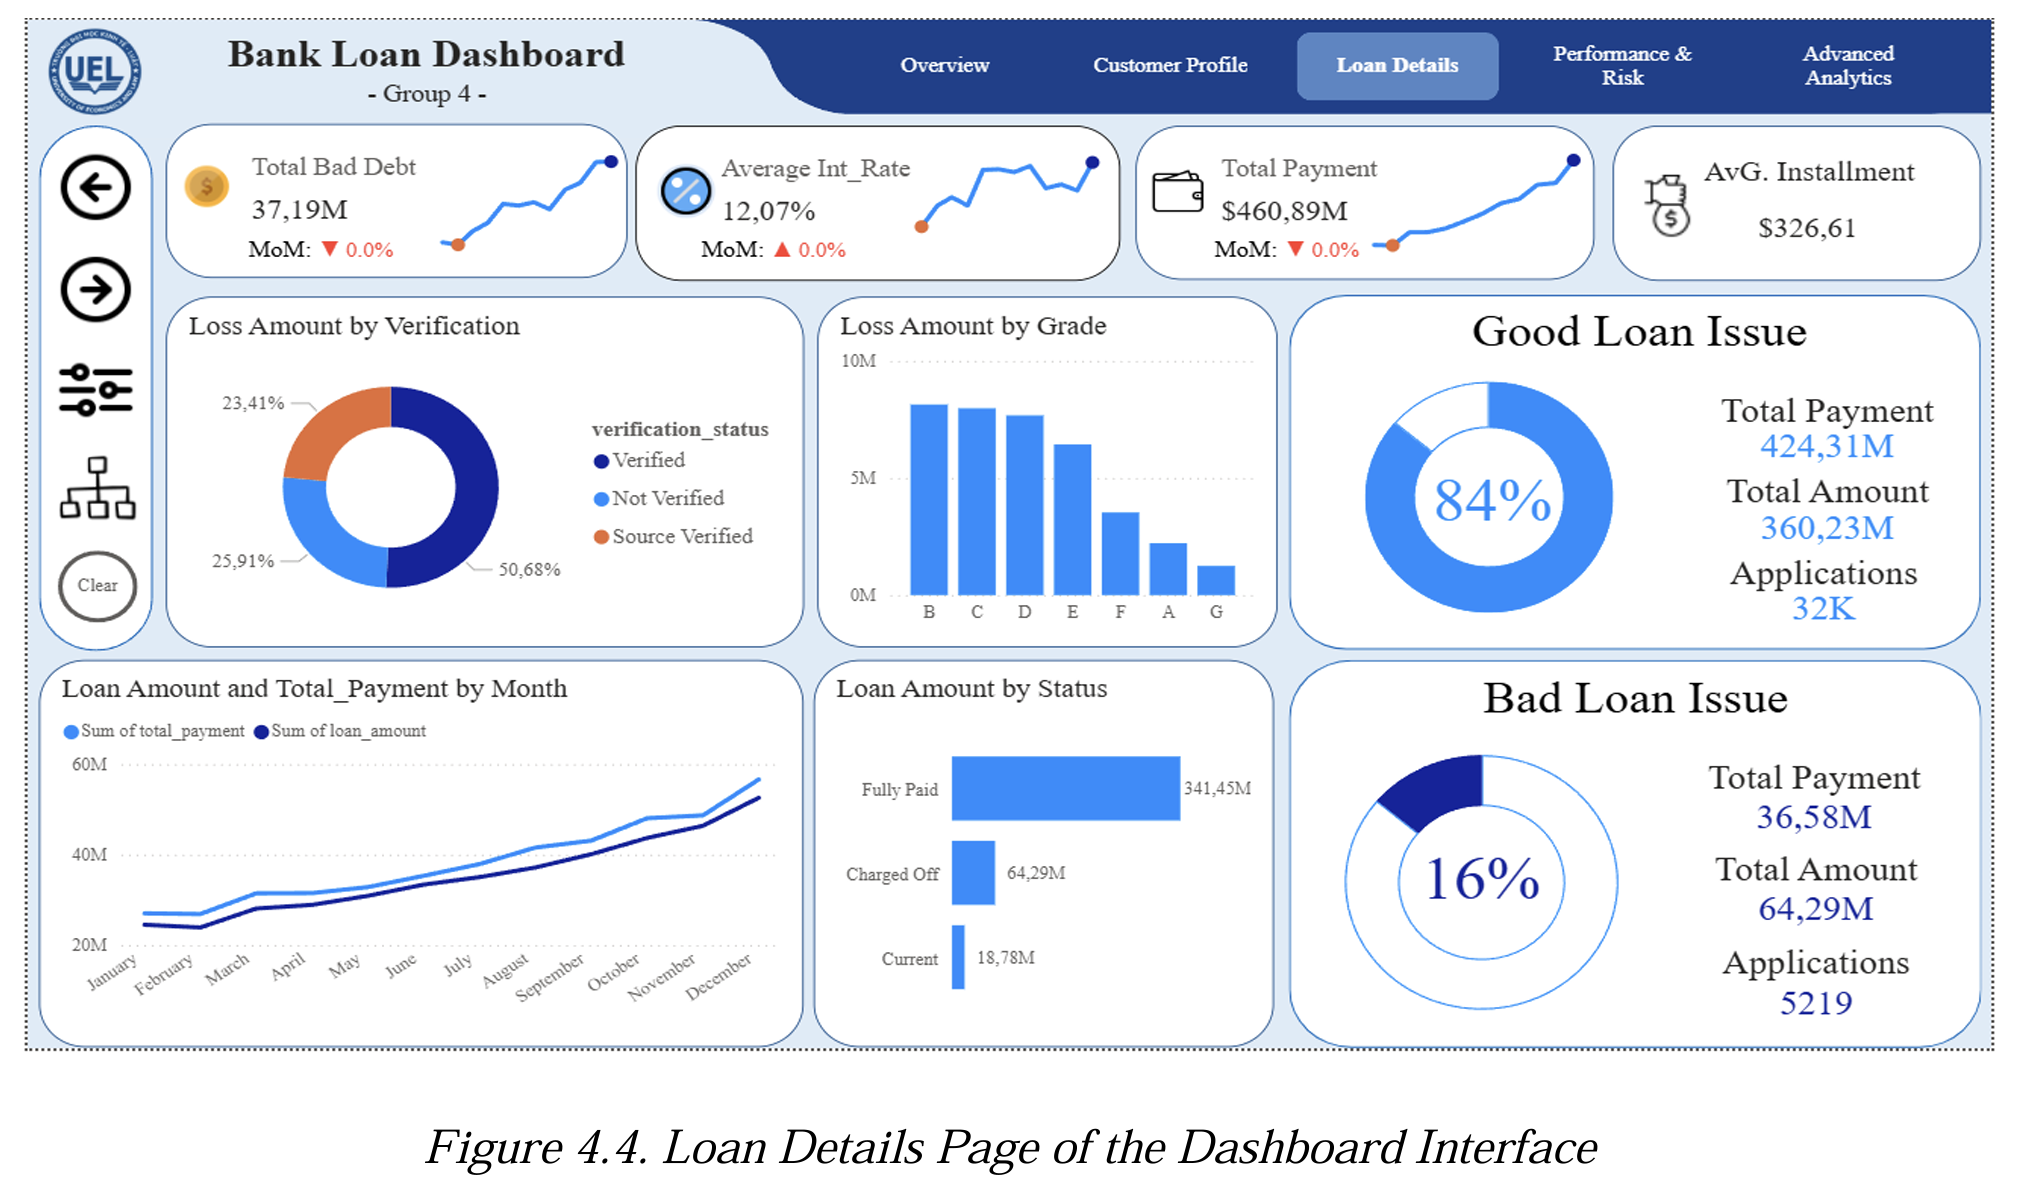

Layout of this report page (visuals, bound fields, positions):
{"tool":"powerbi","page":{"name":"Loan Details","canvas":[1280,720],"ordinal":3},"visuals":[{"type":"shape","box":[0,0,1280,720],"z":0},{"type":"shape","box":[482,0,792,66],"z":0,"group":"g6"},{"type":"pageNavigator","box":[532.5,8.8,132.6,48.8],"z":0,"group":"g7"},{"type":"cardVisual","fields":{"Data":["Measure.Total Loan Amount"]},"box":[90,72.9,300.6,108.1],"z":0,"group":"g9"},{"type":"group","id":"g1","title":"Group 6","box":[396.5,73.9,315.7,108.6],"z":0,"group":"g8"},{"type":"group","id":"g2","title":"Group 3","box":[396.5,73.9,315.7,108.6],"z":0,"group":"g1"},{"type":"cardVisual","fields":{"Data":["Measure.Average Interest Rate"]},"box":[396.5,73.9,315.7,108.6],"z":0,"group":"g2"},{"type":"group","id":"g3","title":"Group 10","box":[721.9,74.3,300.5,107.8],"z":0,"group":"g10"},{"type":"group","id":"g4","title":"Group 4","box":[721.9,74.3,300.5,107.8],"z":0,"group":"g3"},{"type":"group","id":"g5","title":"Group 3","box":[721.9,74.3,300.5,107.8],"z":0,"group":"g4"},{"type":"cardVisual","fields":{"Data":["Measure.Total Payment"]},"box":[721.9,74.3,299.1,107.8],"z":0,"group":"g5"},{"type":"shape","box":[822.2,192.9,451,248.5],"z":0,"group":"g11"},{"type":"shape","box":[822.4,447.9,451.5,271.6],"z":0,"group":"g12"},{"type":"shape","box":[381.5,0,898.8,42],"z":1000},{"type":"shape","box":[532,0,748.6,65.7],"z":1000,"group":"g6"},{"type":"pageNavigator","box":[827.1,8.8,132.6,48.8],"z":1000,"group":"g7"},{"type":"lineChart","fields":{"Y":["Measure.Total Loan Amount","Measure.MaxSalesbyMonth","Measure.Min Total Loan Amount"],"Category":["Dim_Time.Date.Variation.Date Hierarchy.Year","Dim_Time.Date.Variation.Date Hierarchy.Month"]},"box":[255,77.9,140,100],"z":1000,"group":"g9"},{"type":"lineChart","fields":{"Category":["Dim_Time.Date.Variation.Date Hierarchy.Year","Dim_Time.Date.Variation.Date Hierarchy.Month"],"Y":["Measure.Total Payment","Measure.Max Total Payment","Measure.Min Total Payment"]},"box":[862.4,78.5,160,100.2],"z":1000,"group":"g5"},{"type":"lineChart","fields":{"Y":["Measure.Average Interest Rate","Measure.Max Average Int Rate","Measure.Min Average Int Rate"],"Category":["Dim_Time.Date.Variation.Date Hierarchy.Year","Dim_Time.Date.Variation.Date Hierarchy.Month"]},"box":[568.5,80,141.4,92.9],"z":1000,"group":"g2"},{"type":"image","box":[402.1,96.2,54.3,47.3],"z":1000,"group":"g1"},{"type":"image","box":[722.4,98,55.7,44.5],"z":1000,"group":"g3"},{"type":"textbox","box":[878.4,194,343.6,68.1],"z":1000,"group":"g11"},{"type":"textbox","box":[872.4,450.5,351,74.3],"z":1000,"group":"g12"},{"type":"pageNavigator","box":[974.4,8.8,132.6,48.8],"z":2000,"group":"g7"},{"type":"image","box":[97,92.4,39,47.3],"z":2000,"group":"g9"},{"type":"textbox","box":[900.6,307,107.3,60.6],"z":2000,"group":"g11"},{"type":"textbox","box":[894.1,571,107.1,65.7],"z":2000,"group":"g12"},{"type":"shape","box":[0,0,492.5,83.8],"z":3000},{"type":"pageNavigator","box":[679.8,8.8,132.6,48.8],"z":3000,"group":"g7"},{"type":"donutChart","title":"Total Loan Apps by Bad/Good Loan","fields":{"Y":["CountNonNull(fact_loan.loan_id)"],"Category":["dim_loanstatus.loan_status_category"]},"box":[826.8,229.3,251.5,212.1],"z":3000,"group":"g11"},{"type":"donutChart","title":"Total Loan Apps by Bad/Good Loan","fields":{"Y":["CountNonNull(fact_loan.loan_id)"],"Category":["dim_loanstatus.loan_status_category"]},"box":[822.1,487.1,251.4,232.9],"z":3000,"group":"g12"},{"type":"shape","title":"Bank Loan Dashboard","box":[118.6,8.6,282.9,31.4],"z":4000},{"type":"pageNavigator","box":[1121.7,8.8,132.6,48.8],"z":4000,"group":"g7"},{"type":"card","title":"Total Amount","fields":{"Values":["Measure.Good Loan Amount"]},"box":[1081,296.8,183.7,71],"z":4000,"group":"g11"},{"type":"card","title":"Total Amount","fields":{"Values":["Measure.Bad Loan Amount"]},"box":[1073.9,560.6,183.7,76.5],"z":4000,"group":"g12"},{"type":"image","box":[7.1,0,72.9,72.9],"z":5000},{"type":"card","title":"Applications","fields":{"Values":["Measure.Good Loan Applications"]},"box":[1079.2,353.4,183.7,70.9],"z":5000,"group":"g11"},{"type":"card","title":"Applications","fields":{"Values":["Measure.Bad Loan Applications"]},"box":[1073.9,626,183.7,77.9],"z":5000,"group":"g12"},{"type":"shape","title":"- Group 4 -","box":[214.8,41.9,91,20],"z":6000},{"type":"card","title":"Total Payment","fields":{"Values":["Measure.Good Total Payment"]},"box":[1081,240.2,183.7,71],"z":6000,"group":"g11"},{"type":"card","title":"Total Payment","fields":{"Values":["Measure.Bad Total Payment"]},"box":[1073.3,495.6,183.7,76.7],"z":6000,"group":"g12"},{"type":"group","id":"g6","title":"Group 2","box":[482,0,798.6,66],"z":7000},{"type":"group","id":"g7","title":"Group 1","box":[532.5,8.8,721.2,48.8],"z":8000},{"type":"shape","box":[7.4,74.1,74.1,367.8],"z":9000},{"type":"actionButton","box":[19.3,372.2,51.9,50.4],"z":10000},{"type":"image","box":[14.8,158.7,59.3,59.3],"z":11000},{"type":"image","box":[14.8,229.8,59.3,59.3],"z":12000},{"type":"image","box":[16.3,298.1,59.3,59.3],"z":13000},{"type":"image","box":[14.8,87.5,59.3,59.3],"z":14000},{"type":"donutChart","title":"Loan Amount by Verification","fields":{"Category":["dim_verification.verification_status"],"Y":["CountNonNull(fact_loan.loan_id)"]},"box":[90,194.3,415.7,245.7],"z":15000},{"type":"group","id":"g8","title":"Group 5","box":[396.5,73.9,315.7,108.6],"z":16000},{"type":"group","id":"g9","title":"Group 3","box":[90,72.9,305,108.1],"z":17000},{"type":"card","title":"Mom","fields":{"Values":["Measure.Loan Growth Display"]},"box":[158.6,130.8,109.3,64],"z":18000,"group":"g13"},{"type":"card","title":"Mom","fields":{"Values":["Measure.Interest Rate Growth Display"]},"box":[453.9,130.8,109.3,64],"z":18000,"group":"g14"},{"type":"card","title":"Mom","fields":{"Values":["Measure.Loan Payment Growth Display"]},"box":[789.2,130.8,109.3,64],"z":18000,"group":"g15"},{"type":"lineChart","title":"Loan Amount and Total_Payment by Month","fields":{"Category":["dim_Time.Date.Variation.Date Hierarchy.Month"],"Y":["Sum(fact_loan.loan_amount)","Sum(fact_loan.total_payment)"]},"box":[7.1,448.6,498.6,271.4],"z":18000},{"type":"group","id":"g10","title":"Group 8","box":[721.9,74.3,300.5,107.8],"z":19000},{"type":"group","id":"g11","title":"Group 7","box":[822.2,192.9,451,248.5],"z":20000},{"type":"columnChart","title":"Loan Amount by Grade","fields":{"Category":["dim_creditgrade.grade"],"Y":["Sum(fact_loan.loan_amount)"]},"box":[514.3,194.3,300,245.7],"z":21000},{"type":"group","id":"g12","title":"Group 9","box":[822.1,447.9,451.8,272],"z":22000},{"type":"card","title":"AvG. Installment","fields":{"Values":["Avg(fact_loan.installment)"]},"box":[1032.9,74.3,240,108.6],"z":23000},{"type":"barChart","title":"Loan Amount by Status","fields":{"Category":["dim_loanstatus.loan_status"],"Y":["Sum(fact_loan.loan_amount)"]},"box":[512.9,448.6,300,271.4],"z":24000},{"type":"image","box":[1037.1,104.3,61.4,52.9],"z":25000},{"type":"group","id":"g13","title":"Group 12","box":[135.3,130.8,132.6,64],"z":28502},{"type":"group","id":"g14","title":"Group 12","box":[430.6,130.8,132.2,64],"z":28503},{"type":"group","id":"g15","title":"Group 12","box":[765.9,130.8,132.2,64],"z":28504},{"type":"textbox","box":[135.3,147.4,61.6,38.4],"z":30000,"group":"g13"},{"type":"textbox","box":[430.6,147.4,61.6,38.4],"z":30000,"group":"g14"},{"type":"textbox","box":[765.9,147.4,61.6,38.4],"z":30000,"group":"g15"}]}

Visuals, with their boxes on the page's 1280x720 design canvas (x1, y1, x2, y2). These are canvas units, not pixel positions in the 2020x1179 screenshot, which may show the page scaled, cropped or inside an application window:
shape: 0,0,1280,720
shape: 482,0,1274,66
pageNavigator: 532,9,665,58
cardVisual - Measure.Total Loan Amount: 90,73,391,181
"Group 6" group: 396,74,712,182
"Group 3" group: 396,74,712,182
cardVisual - Measure.Average Interest Rate: 396,74,712,182
"Group 10" group: 722,74,1022,182
"Group 4" group: 722,74,1022,182
"Group 3" group: 722,74,1022,182
cardVisual - Measure.Total Payment: 722,74,1021,182
shape: 822,193,1273,441
shape: 822,448,1274,720
shape: 382,0,1280,42
shape: 532,0,1281,66
pageNavigator: 827,9,960,58
lineChart - Measure.Total Loan Amount x Measure.MaxSalesbyMonth: 255,78,395,178
lineChart - Dim_Time.Date.Variation.Date Hierarchy.Year x Dim_Time.Date.Variation.Date Hierarchy.Month: 862,78,1022,179
lineChart - Measure.Average Interest Rate x Measure.Max Average Int Rate: 568,80,710,173
image: 402,96,456,144
image: 722,98,778,142
textbox: 878,194,1222,262
textbox: 872,450,1223,525
pageNavigator: 974,9,1107,58
image: 97,92,136,140
textbox: 901,307,1008,368
textbox: 894,571,1001,637
shape: 0,0,492,84
pageNavigator: 680,9,812,58
"Total Loan Apps by Bad/Good Loan" donutChart: 827,229,1078,441
"Total Loan Apps by Bad/Good Loan" donutChart: 822,487,1074,720
"Bank Loan Dashboard" shape: 119,9,402,40
pageNavigator: 1122,9,1254,58
"Total Amount" card: 1081,297,1265,368
"Total Amount" card: 1074,561,1258,637
image: 7,0,80,73
"Applications" card: 1079,353,1263,424
"Applications" card: 1074,626,1258,704
"- Group 4 -" shape: 215,42,306,62
"Total Payment" card: 1081,240,1265,311
"Total Payment" card: 1073,496,1257,572
"Group 2" group: 482,0,1281,66
"Group 1" group: 532,9,1254,58
shape: 7,74,82,442
actionButton: 19,372,71,423
image: 15,159,74,218
image: 15,230,74,289
image: 16,298,76,357
image: 15,88,74,147
"Loan Amount by Verification" donutChart: 90,194,506,440
"Group 5" group: 396,74,712,182
"Group 3" group: 90,73,395,181
"Mom" card: 159,131,268,195
"Mom" card: 454,131,563,195
"Mom" card: 789,131,898,195
"Loan Amount and Total_Payment by Month" lineChart: 7,449,506,720
"Group 8" group: 722,74,1022,182
"Group 7" group: 822,193,1273,441
"Loan Amount by Grade" columnChart: 514,194,814,440
"Group 9" group: 822,448,1274,720
"AvG. Installment" card: 1033,74,1273,183
"Loan Amount by Status" barChart: 513,449,813,720
image: 1037,104,1098,157
"Group 12" group: 135,131,268,195
"Group 12" group: 431,131,563,195
"Group 12" group: 766,131,898,195
textbox: 135,147,197,186
textbox: 431,147,492,186
textbox: 766,147,828,186
